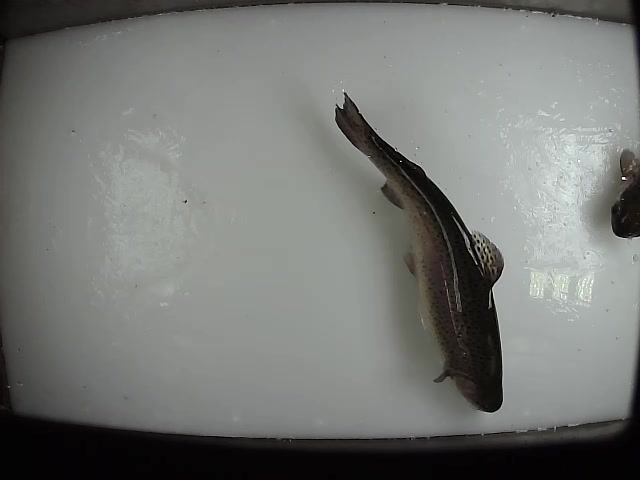fish: (332, 88, 506, 413)
